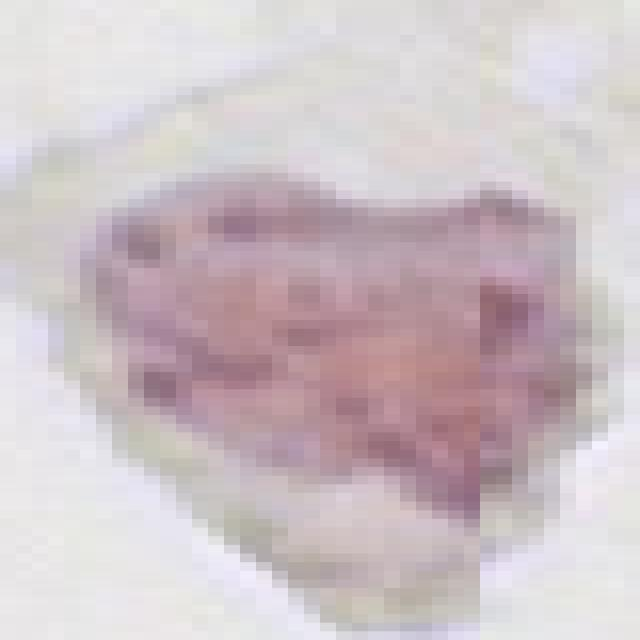nucleus: (79, 160, 598, 532)
